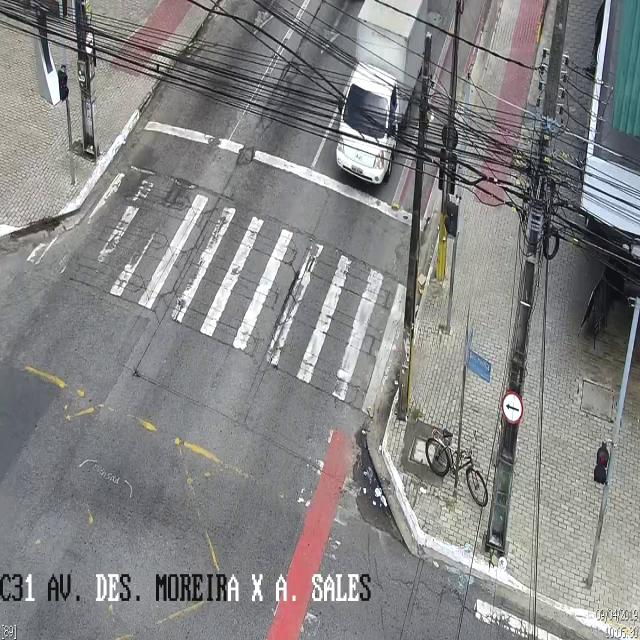Truck: (335, 1, 427, 186)
